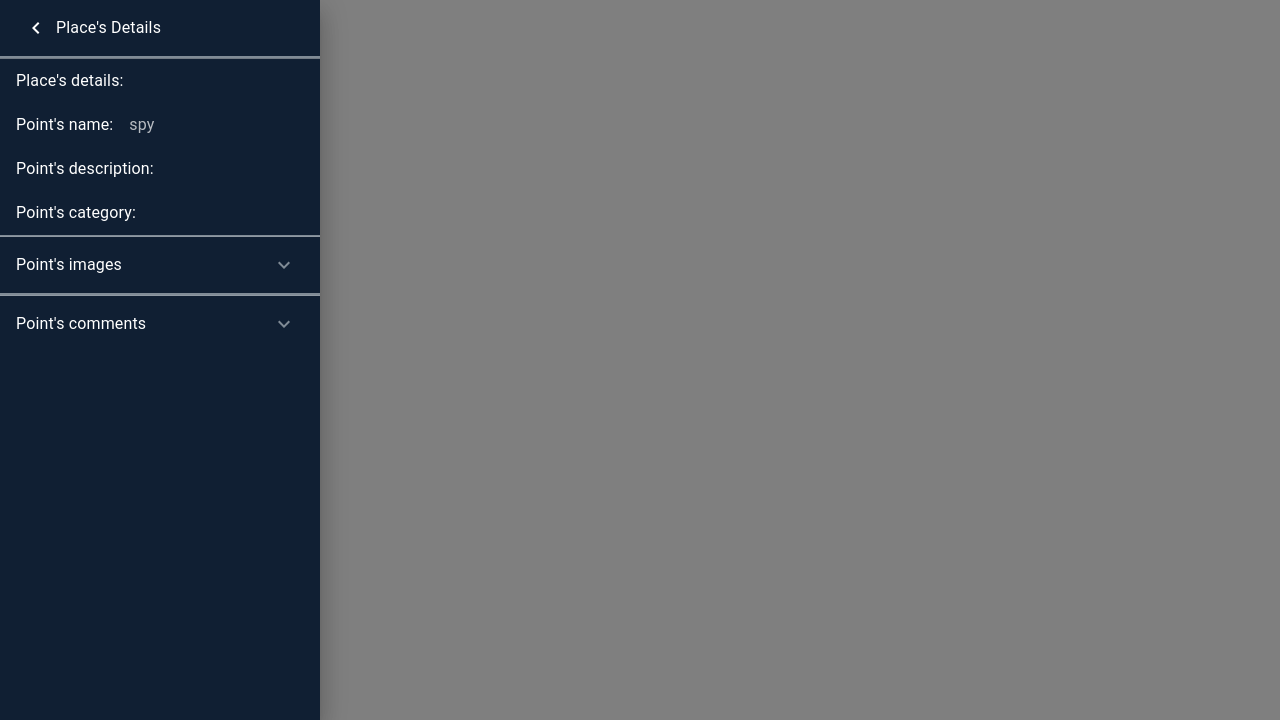
Test: opening certain point' s reviews
Click the button with test id "openComments" at (81, 323), box [0, 296, 320, 352]
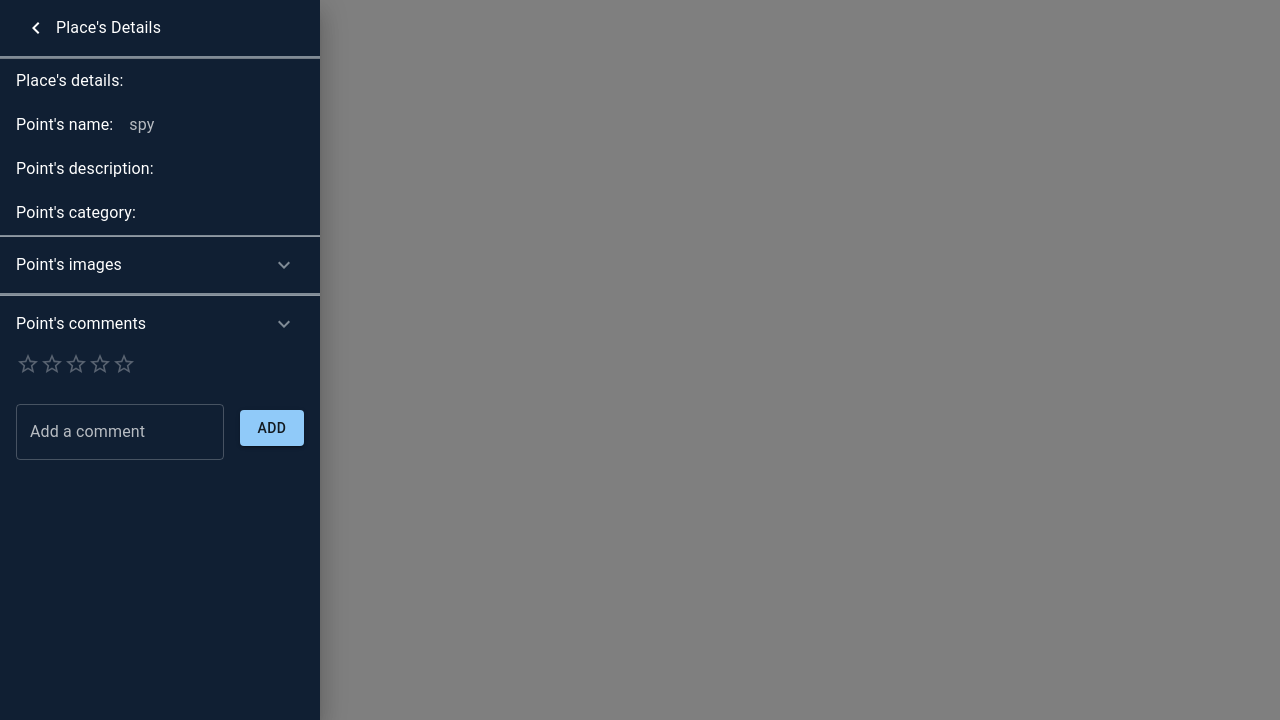
expect the element with test id "rating" is shown: met, box [0, 352, 136, 376]
